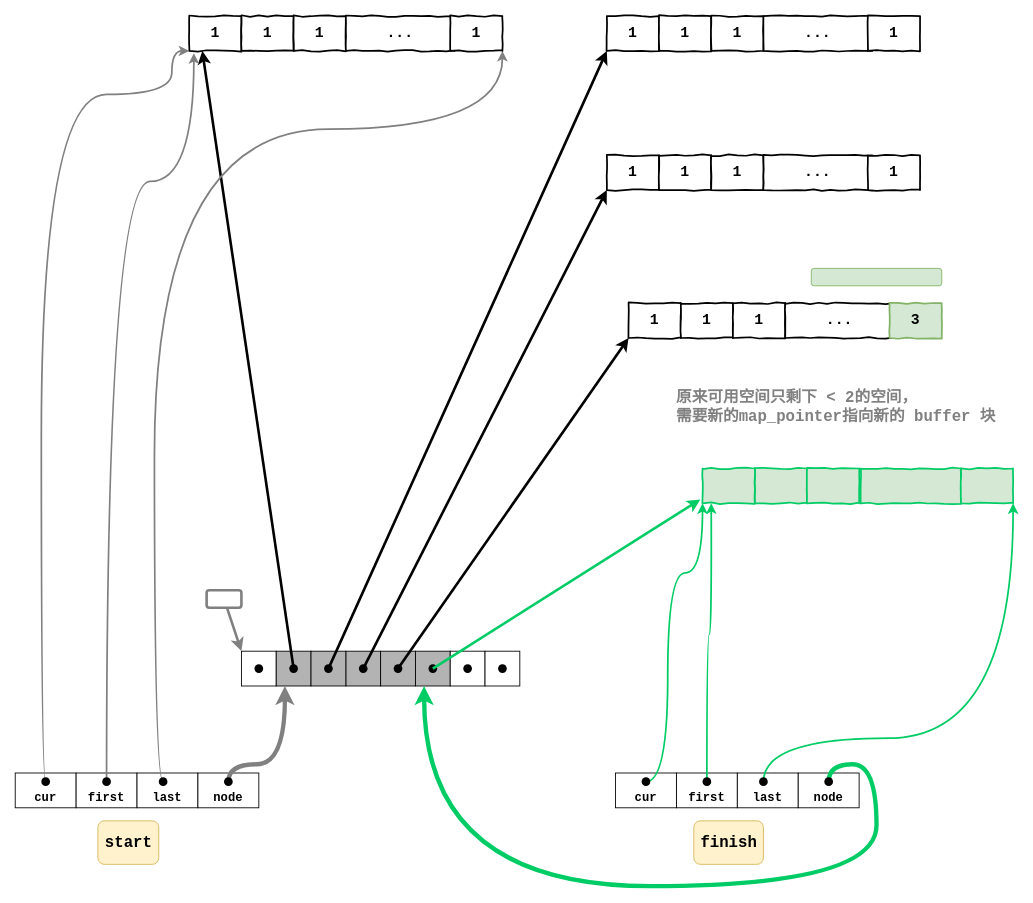
The diagram is 1033 pixels wide and 903 high, and some of its shapes have lost their labels. The centre of each missing label's shape, as x and y in pixels:
map: (223,599)
push_back(3): (876,277)
